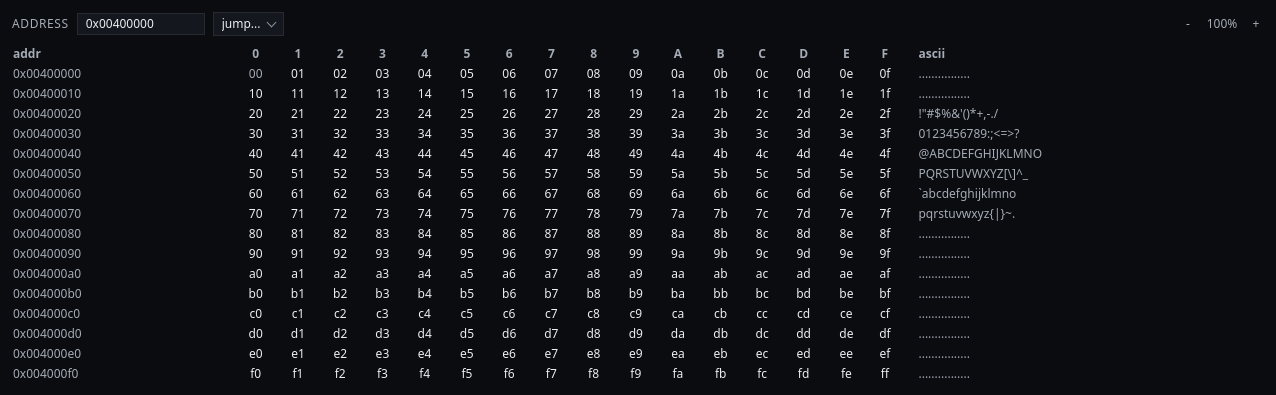
Test case: MemoryPanel › jumps to a named section from the select
Click the dropdown named "jump to section".
click(249, 24)  # box 213,12 -> 284,36
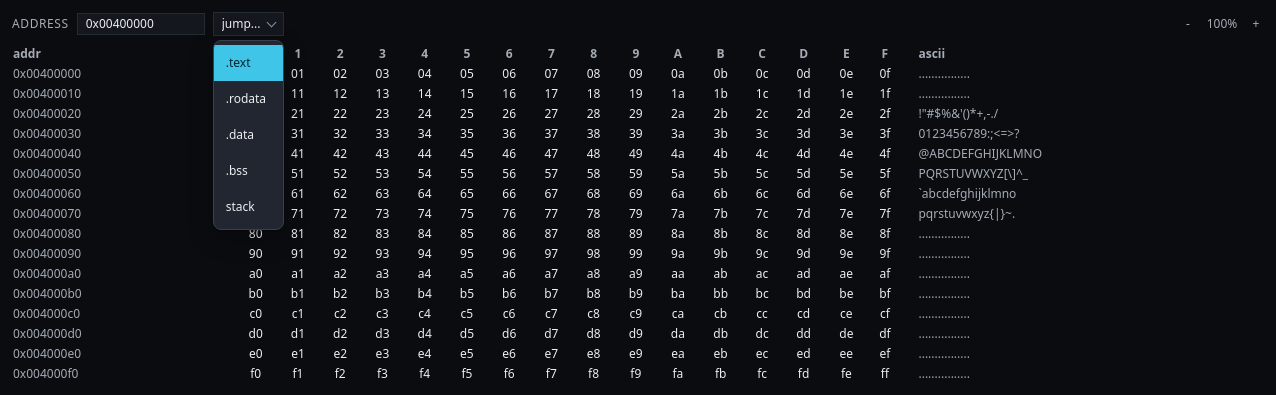
Press the mouse on the option ".data" at (240, 134), box 226,126 -> 254,143
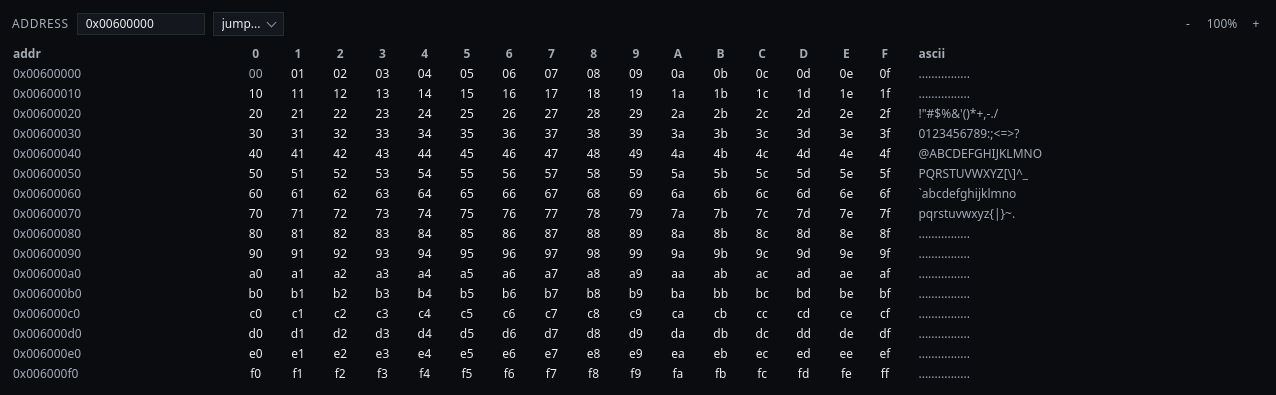
Check: the field named "memory base address" holds "0x00600000", box 77,13 -> 205,35
Check: the text "0x00600000" is shown, box 12,64 -> 235,84
